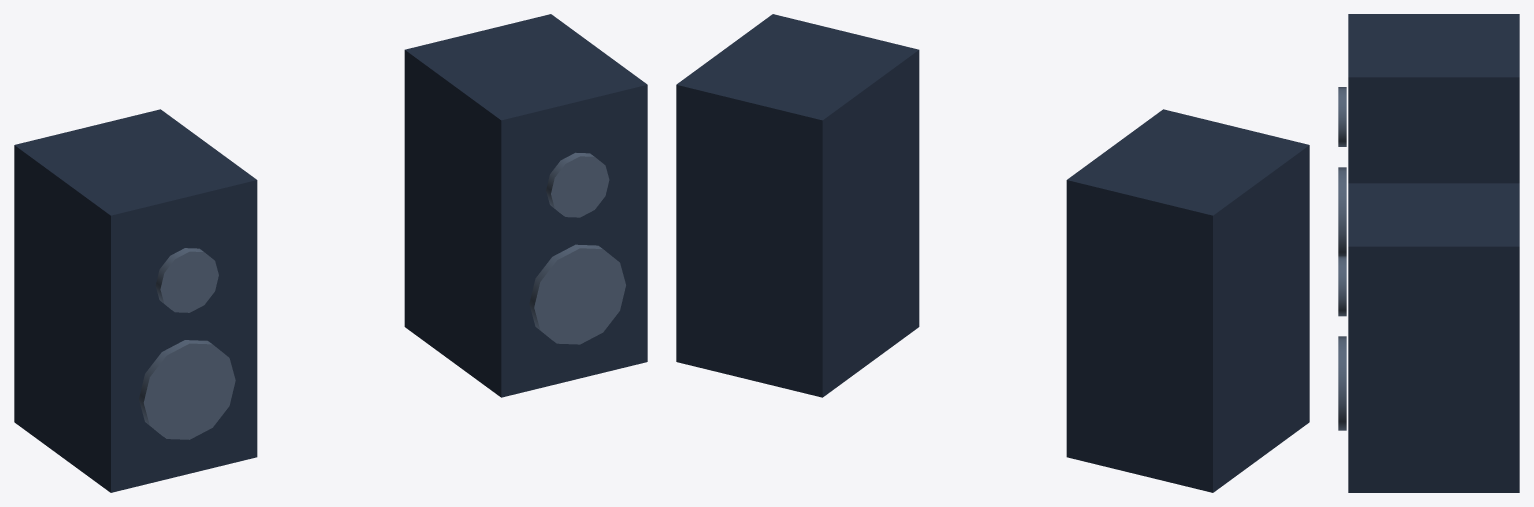
File: officeSpeakers.glb
The picture shows the model from 3 angles, left to right: view 1: azimuth 30°, elevation 25°; view 2: azimuth 150°, elevation 25°; view 3: azimuth 270°, elevation 25°; orthographic projection. The views are drawn at different scales.
Bounding box in the file's own units: 0.385 × 0.19 × 0.127.
